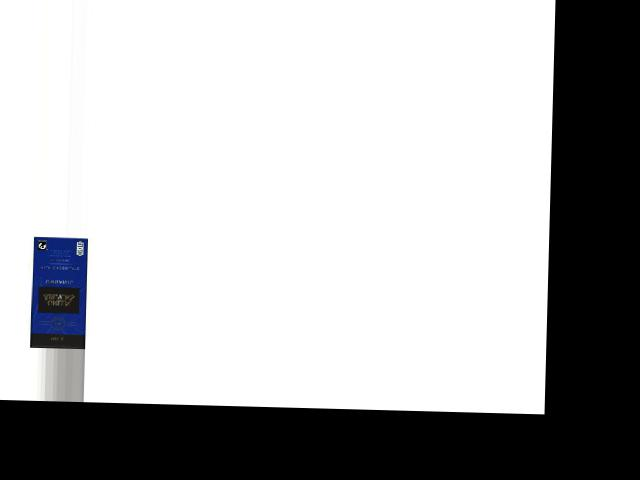chocolate: (29, 238, 89, 349)
